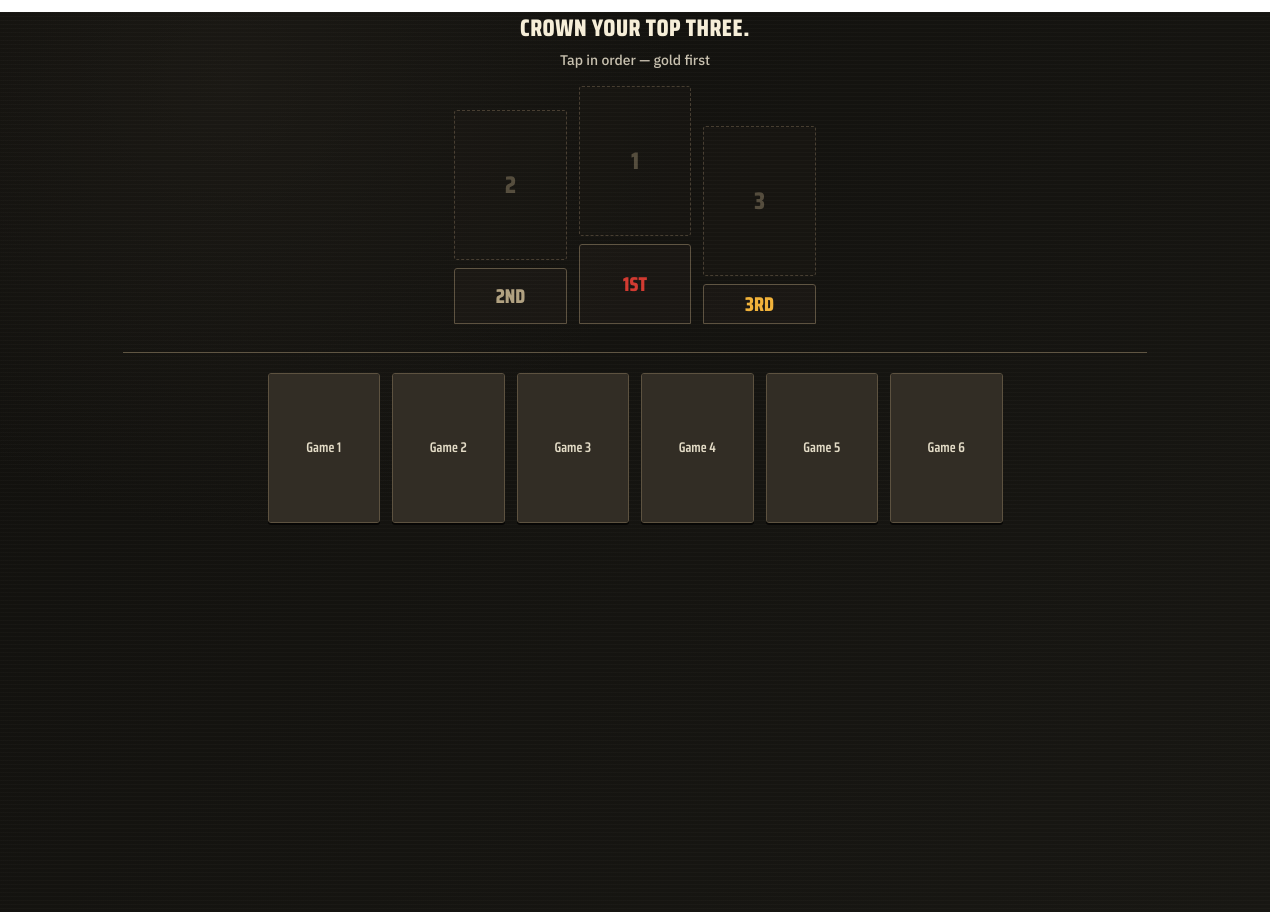
Test: Podium › only offers lock-in once three are chosen
What coordinates should you click on to do the following:
click the button "Game 1"
I would click on:
 (324, 448)
Its box is [268,373,380,523].
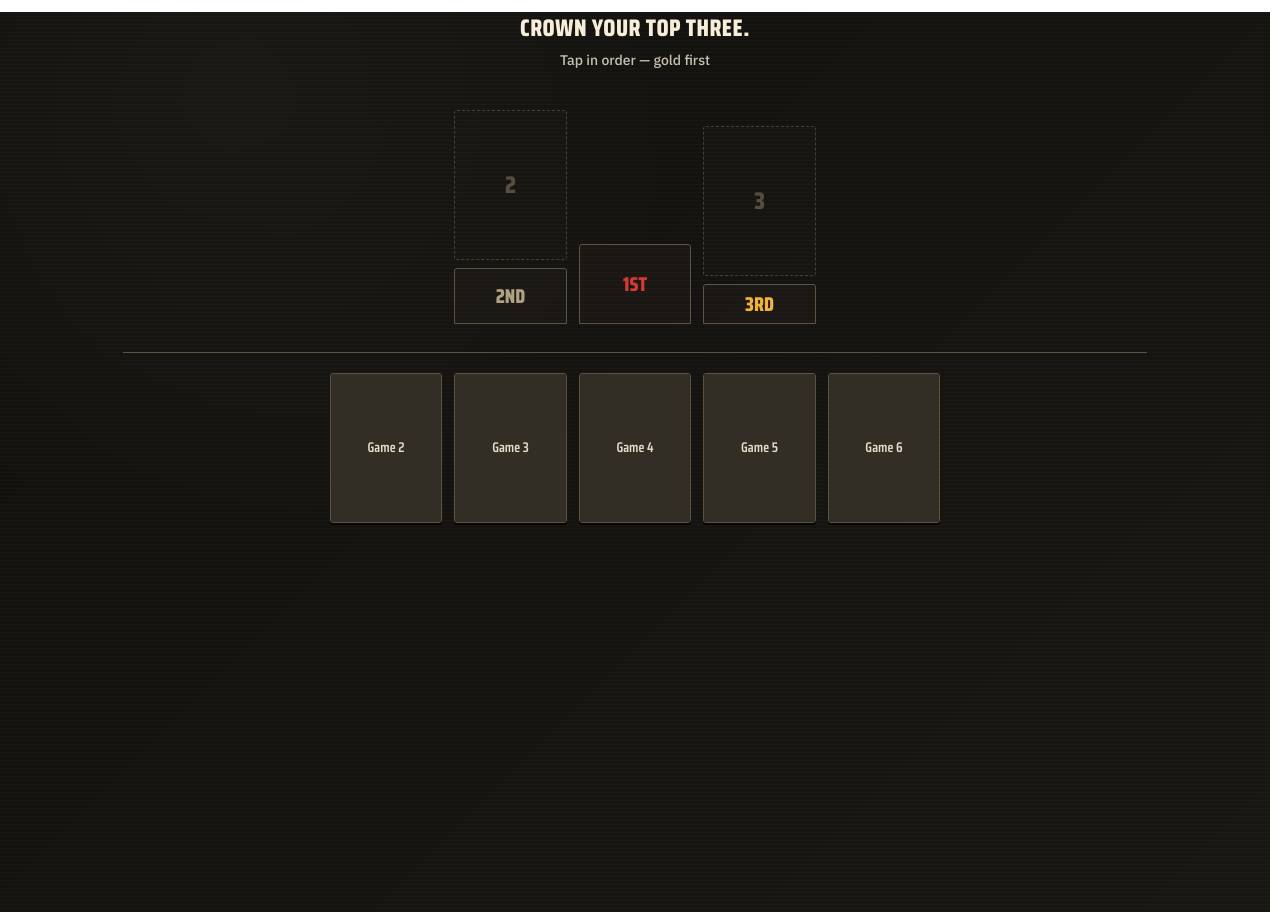
What coordinates should you click on to do the following:
click the button "Game 2"
I would click on:
 (386, 448)
Its box is [330,373,442,523].
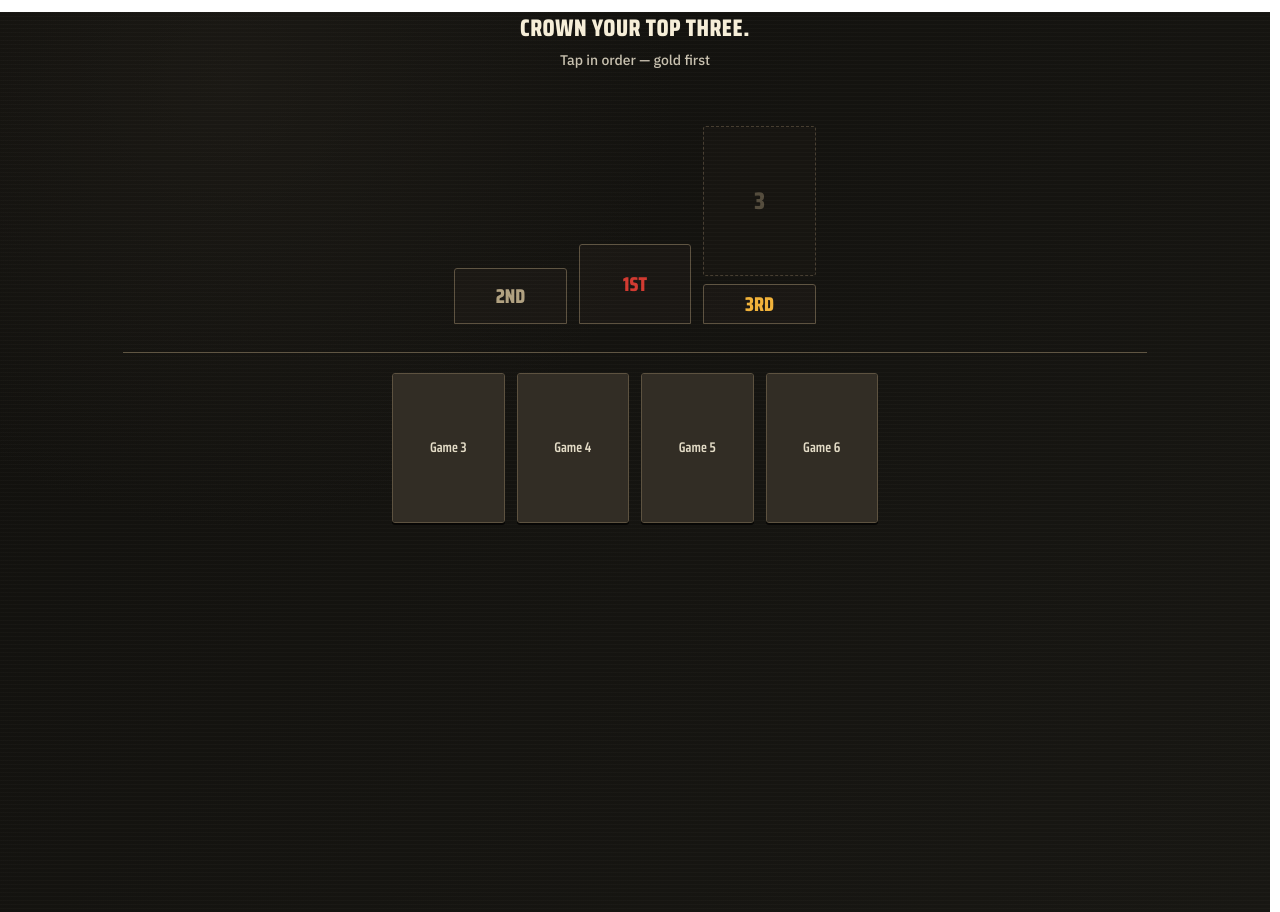
Check: the button "lock in podium" is not shown
What coordinates should you click on to do the following:
click the button "Game 3"
I would click on:
 (448, 448)
Its box is [392,373,504,523].
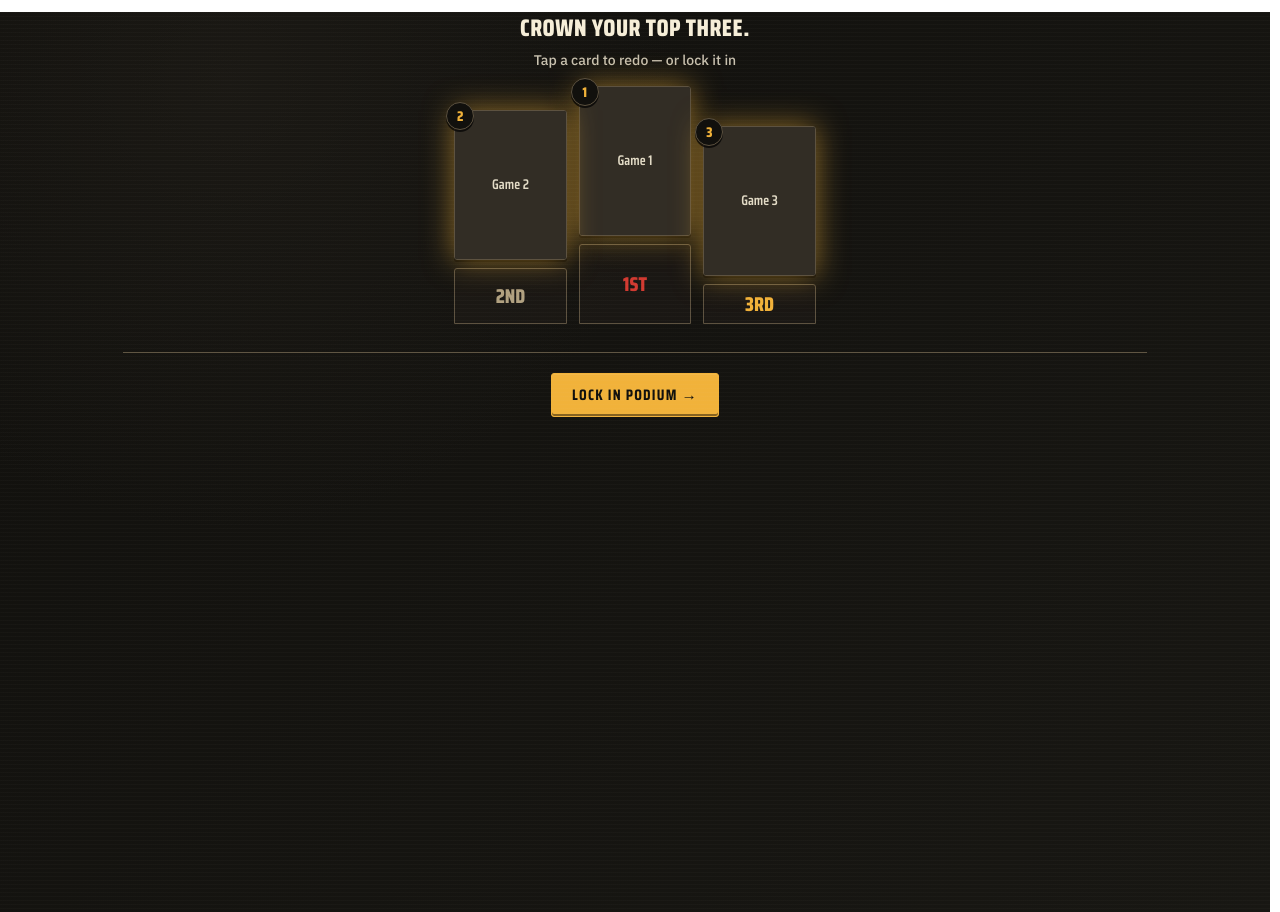
Check: the button "Lock in podium →" is shown, box [551,373,719,417]
